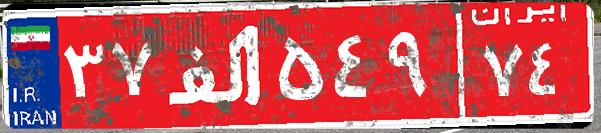3: (57, 26, 110, 107)
4: (330, 28, 385, 110), (525, 38, 570, 115)
5: (273, 28, 330, 110)
7: (475, 38, 525, 113), (110, 28, 158, 105)
9: (385, 28, 445, 110)
الف: (158, 15, 273, 115)
